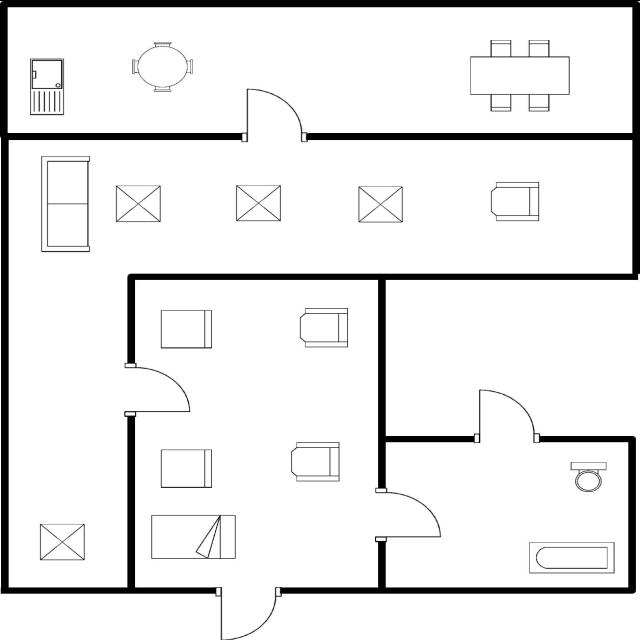armchair: (486, 178, 544, 226), (294, 304, 352, 350), (286, 438, 344, 483)
bed: (146, 510, 238, 562)
coffee_table: (230, 180, 286, 224), (110, 181, 164, 226), (36, 520, 90, 564), (354, 183, 406, 226)
dining_table: (466, 36, 574, 114)
large_sink: (565, 457, 611, 494)
large_sofa: (37, 153, 95, 255)
round_table: (126, 37, 196, 94)
sink: (24, 54, 70, 118)
small_sofa: (154, 445, 217, 492), (156, 306, 214, 352)
tub: (525, 538, 618, 576)
